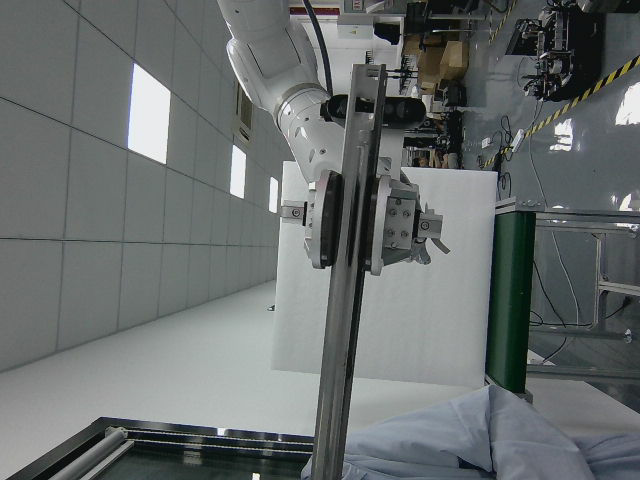down: (309, 60, 390, 475)
